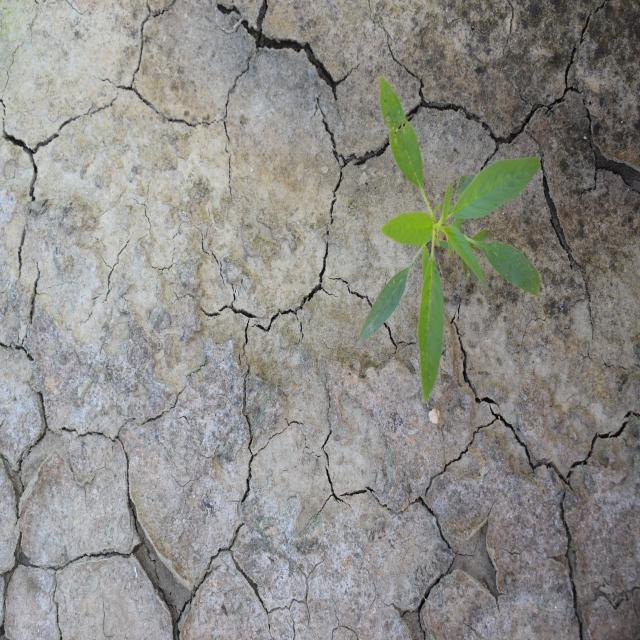Waterhemp: (354, 74, 542, 407)
